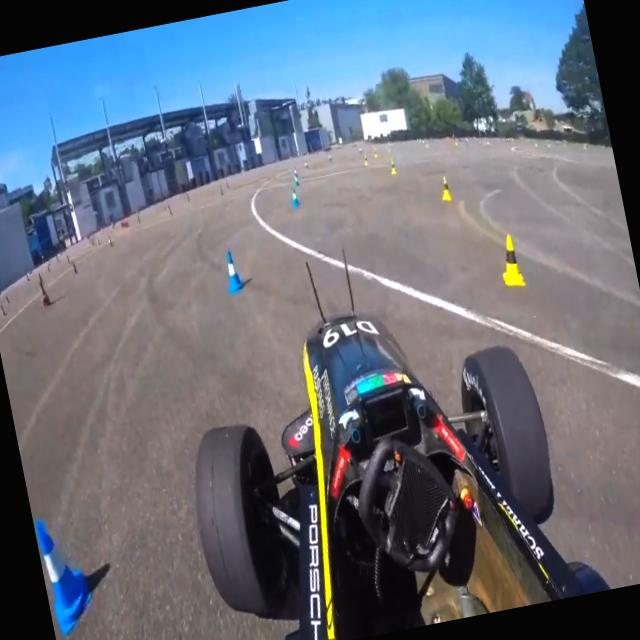blue_cone: (34, 512, 100, 638), (222, 248, 246, 294)
yellow_cone: (496, 233, 527, 290), (438, 176, 454, 202)
